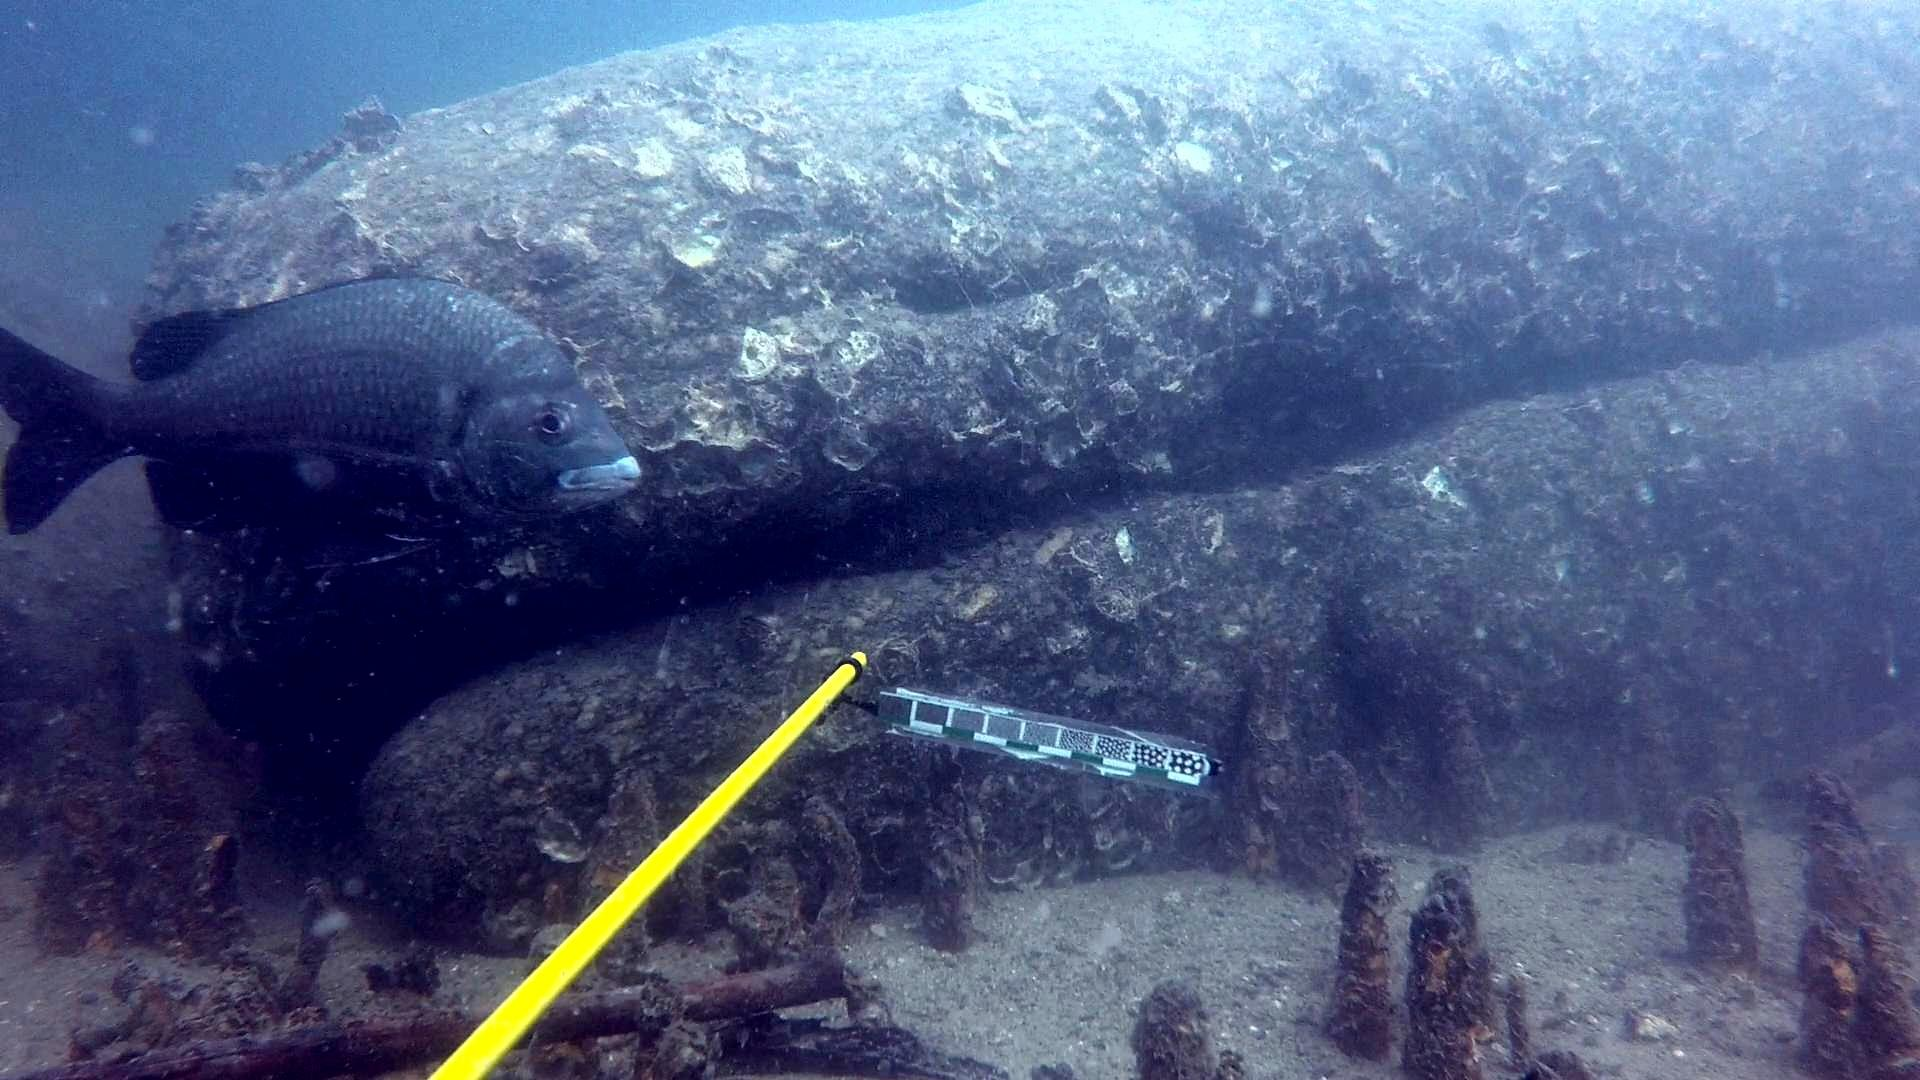acanthopagrus palmaris: (0, 265, 641, 585)
